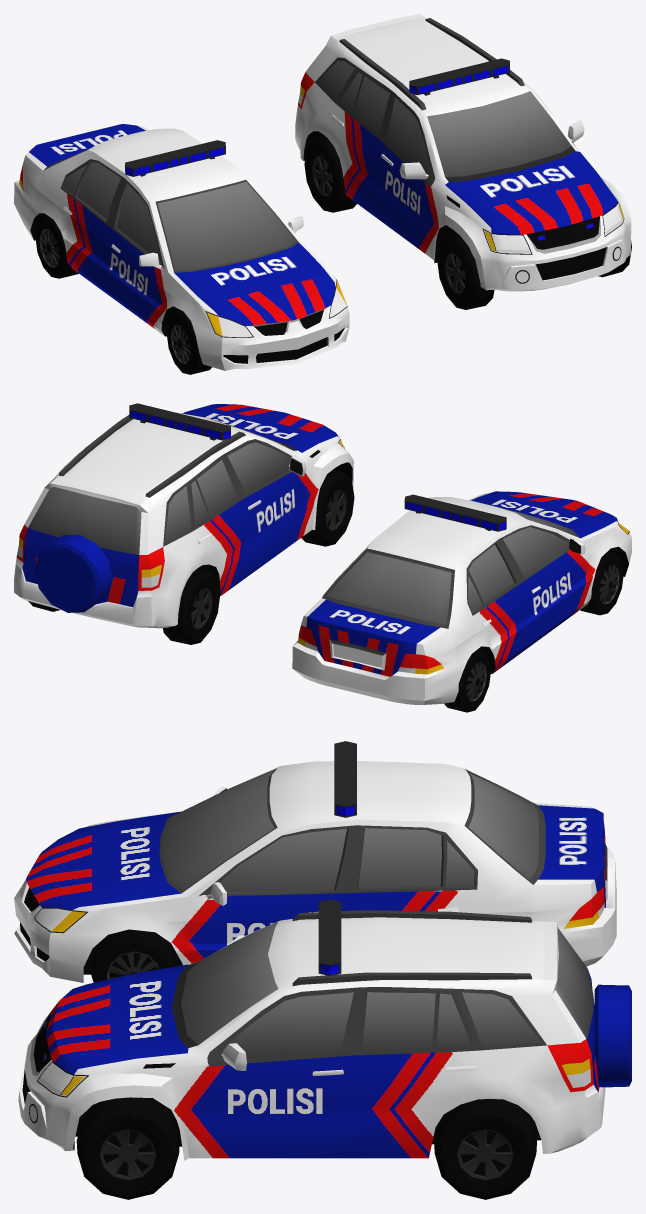
The model's file is han66st_-_indonesian_police_car_free.glb.
The picture shows the model from 3 angles, top to bottom: view 1: azimuth 30°, elevation 25°; view 2: azimuth 150°, elevation 25°; view 3: azimuth 270°, elevation 25°; orthographic projection. The views are drawn at different scales.
Visible parts, largest first — view 1: Object_3; view 2: Object_3; view 3: Object_3.
Part boxes in pixels (<box>): Object_3: <box>14,14,631,374</box>; Object_3: <box>14,403,631,712</box>; Object_3: <box>14,741,631,1199</box>.
Bounding box in the file's own units: 5.31 × 1.82 × 4.69.
1 material, 1 textured.
